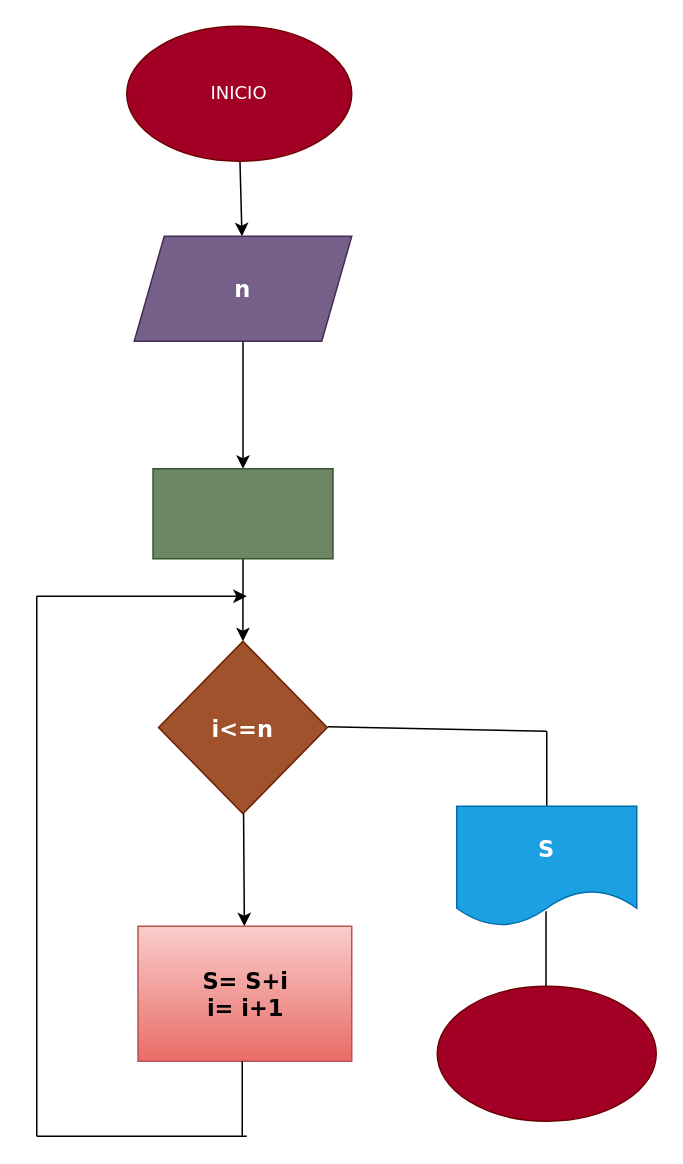
This 683x1164 diagram has some shape labels left out. The shapes that lost their labels are listed below. From the top down, each one's centre as x and y in pixels, then its label:
At [242,513]: "S= 0 i= 1".
At [546,1053]: "FIN".
